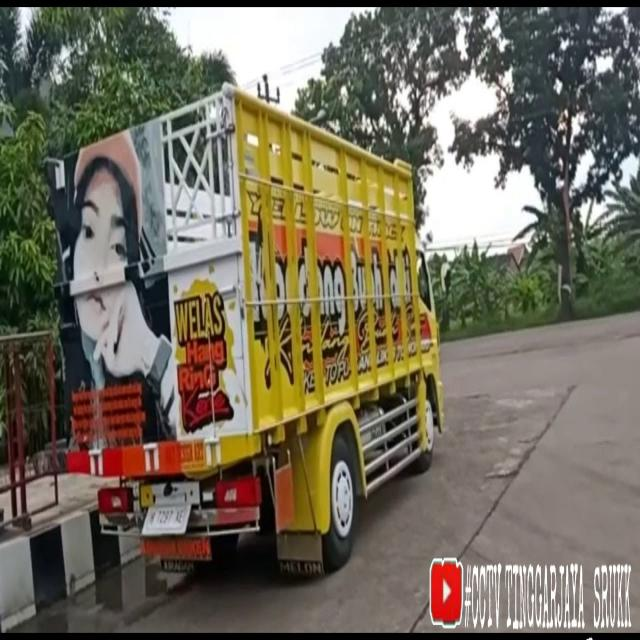truck: (43, 77, 443, 592)
